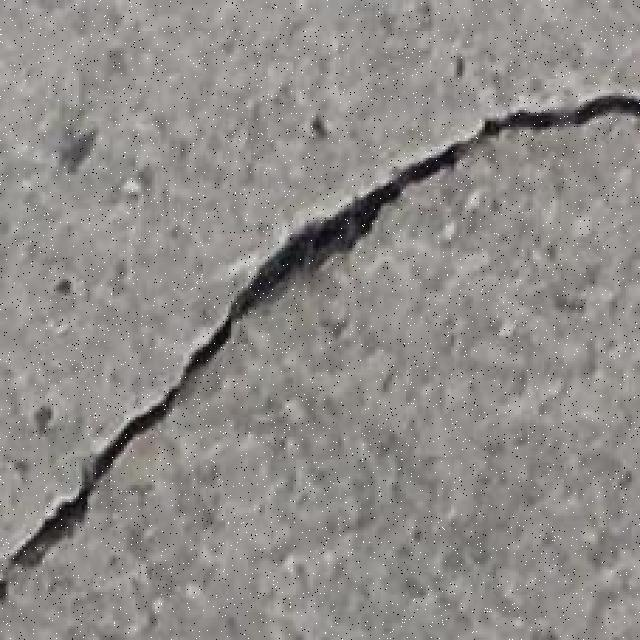crack: (4, 91, 638, 578), (492, 95, 638, 134)
